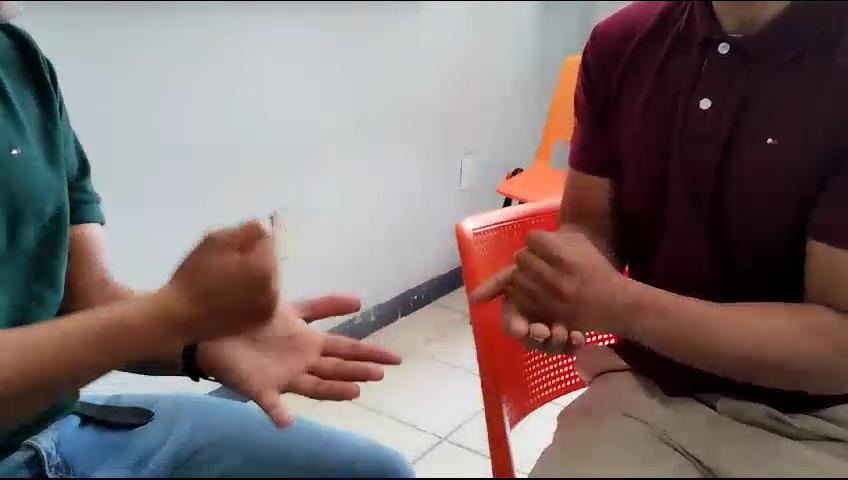Stone: (167, 185, 301, 339), (476, 210, 617, 328)
